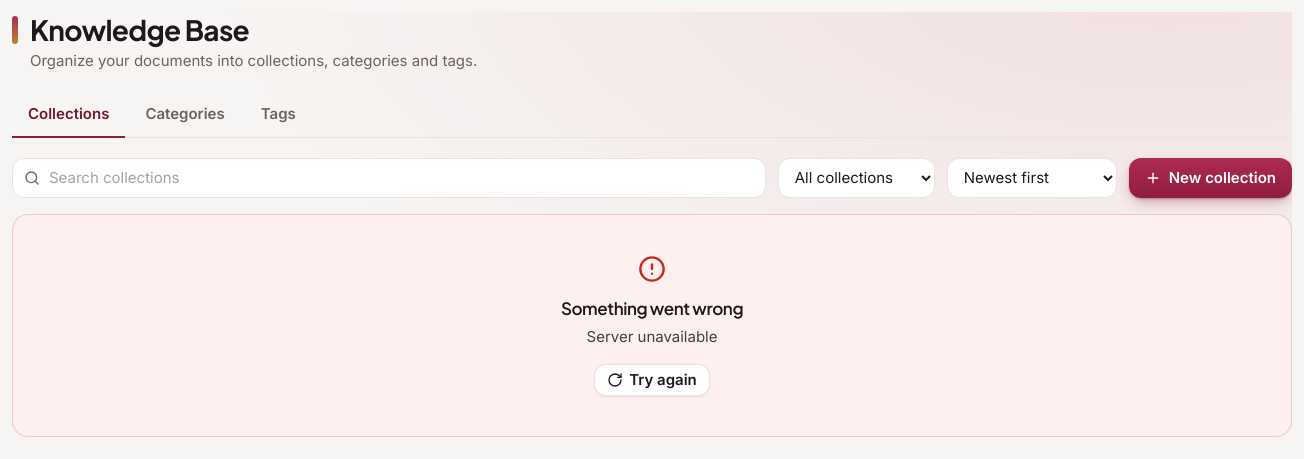
Test case: KnowledgeBase collections › shows an error state with retry when loading fails
Expected: the text "Server unavailable" is shown, x1=586 y1=325 x2=718 y2=348
Step 1. Click the button "Try again" → (652, 380), box x1=594 y1=364 x2=710 y2=396
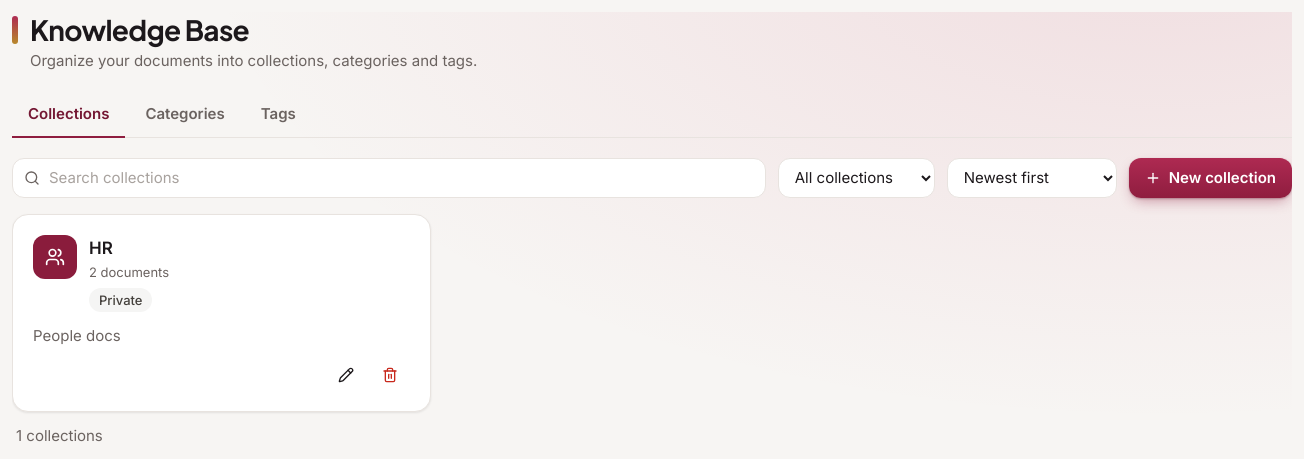
Result: the link "HR" is shown at x1=89 y1=238 x2=113 y2=258
